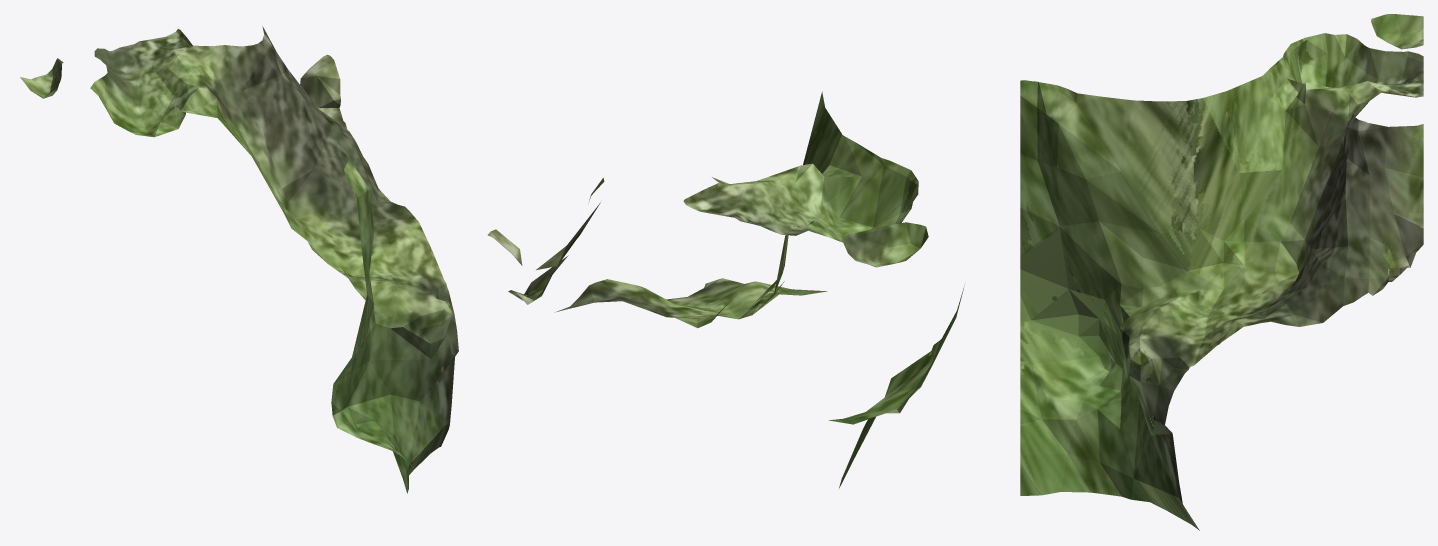
3 renders of one model, left to right at view 1: azimuth 30°, elevation 25°; view 2: azimuth 150°, elevation 25°; view 3: azimuth 270°, elevation 25°, orthographic. The views are drawn at different scales.
Size of the model in its own units: 2.64 by 2.95 by 2.95.
3 materials, 3 textured.
